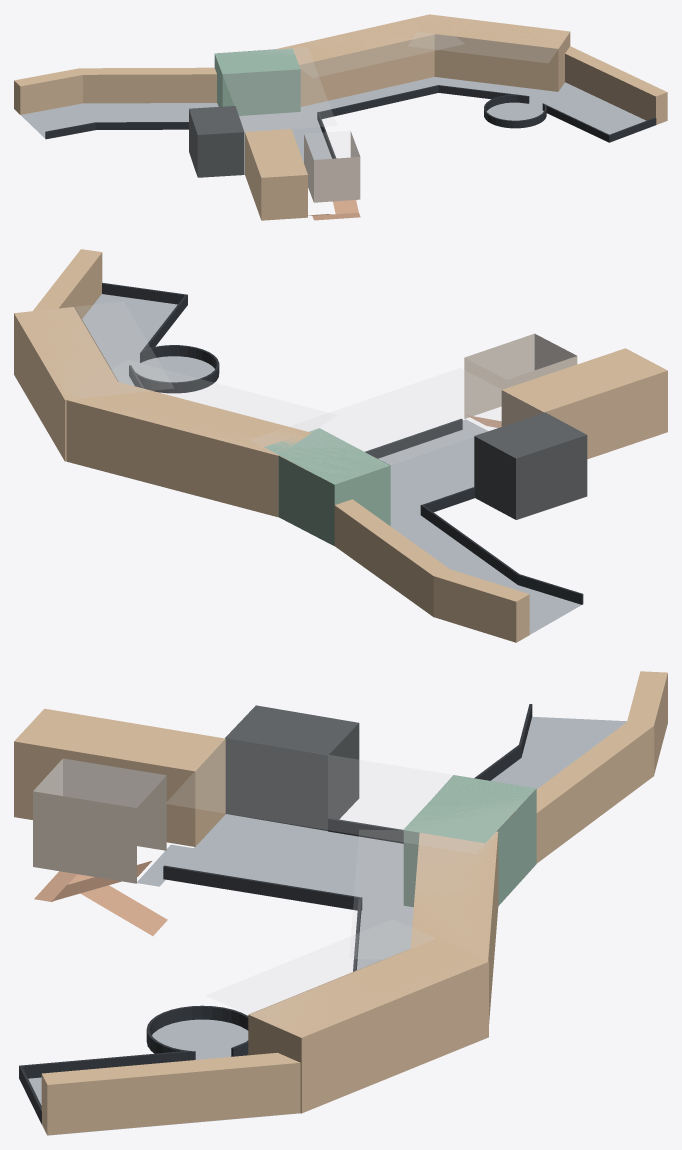
3 renders of one model, top to bottom at view 1: azimuth 30°, elevation 25°; view 2: azimuth 150°, elevation 25°; view 3: azimuth 270°, elevation 25°, orthographic. The views are drawn at different scales.
Parts seen in each view (by area): view 1: 立方體.124, 立方體.118, 立方體.001, 立方體.056, 立方體.181, 立方體.183, 立方體.162, 立方體.152, 立方體.007, 立方體.164, 立方體.005, 立方體.048 (+19 smaller); view 2: 立方體.118, 立方體.001, 立方體.056, 立方體.162, 立方體.004, 立方體.007, 立方體.181, 立方體.005, 立方體.152, 立方體.057, 立方體.048, 立方體.182 (+14 smaller); view 3: 立方體.001, 立方體.183, 立方體.124, 立方體.056, 立方體.162, 立方體.048, 立方體.057, 立方體.003, 立方體.007, 立方體.181, 立方體.005, 立方體.004 (+16 smaller).
Boxes of the visible parts, x1=… form: 立方體.124: x1=434, y1=32, x2=570, y2=91; 立方體.118: x1=299, y1=34, x2=447, y2=106; 立方體.001: x1=223, y1=48, x2=336, y2=131; 立方體.056: x1=245, y1=129, x2=307, y2=220; 立方體.181: x1=79, y1=67, x2=216, y2=103; 立方體.183: x1=565, y1=46, x2=667, y2=124; 立方體.162: x1=189, y1=106, x2=244, y2=177; 立方體.152: x1=214, y1=49, x2=300, y2=115; 立方體.007: x1=276, y1=15, x2=435, y2=64; 立方體.164: x1=517, y1=82, x2=666, y2=138; 立方體.005: x1=417, y1=14, x2=570, y2=48; 立方體.048: x1=304, y1=131, x2=360, y2=202; 立方體.118: x1=66, y1=400, x2=310, y2=516; 立方體.001: x1=250, y1=368, x2=543, y2=472; 立方體.056: x1=501, y1=348, x2=667, y2=459; 立方體.162: x1=474, y1=412, x2=587, y2=519; 立方體.004: x1=42, y1=302, x2=173, y2=398; 立方體.007: x1=67, y1=382, x2=311, y2=455; 立方體.181: x1=334, y1=499, x2=452, y2=616; 立方體.005: x1=14, y1=307, x2=124, y2=399; 立方體.152: x1=278, y1=450, x2=390, y2=546; 立方體.057: x1=378, y1=430, x2=474, y2=513; 立方體.048: x1=464, y1=333, x2=577, y2=418; 立方體.182: x1=433, y1=569, x2=529, y2=642; 立方體.001: x1=166, y1=739, x2=521, y2=853; 立方體.183: x1=41, y1=1052, x2=300, y2=1135; 立方體.124: x1=248, y1=949, x2=488, y2=1113; 立方體.056: x1=14, y1=708, x2=225, y2=846; 立方體.162: x1=225, y1=705, x2=359, y2=830; 立方體.048: x1=33, y1=758, x2=166, y2=883; 立方體.057: x1=177, y1=814, x2=413, y2=919; 立方體.003: x1=350, y1=830, x2=496, y2=958; 立方體.007: x1=410, y1=831, x2=498, y2=960; 立方體.181: x1=509, y1=720, x2=654, y2=863; 立方體.005: x1=249, y1=938, x2=488, y2=1037; 立方體.004: x1=206, y1=920, x2=434, y2=1031.
Bounding box in the file's own units: 35.65 × 5.75 × 23.51.
